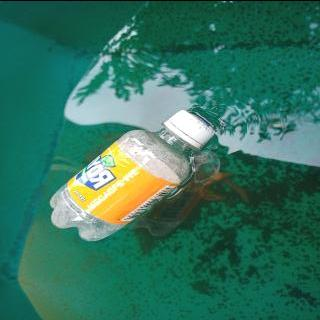bottle: (46, 108, 216, 242)
